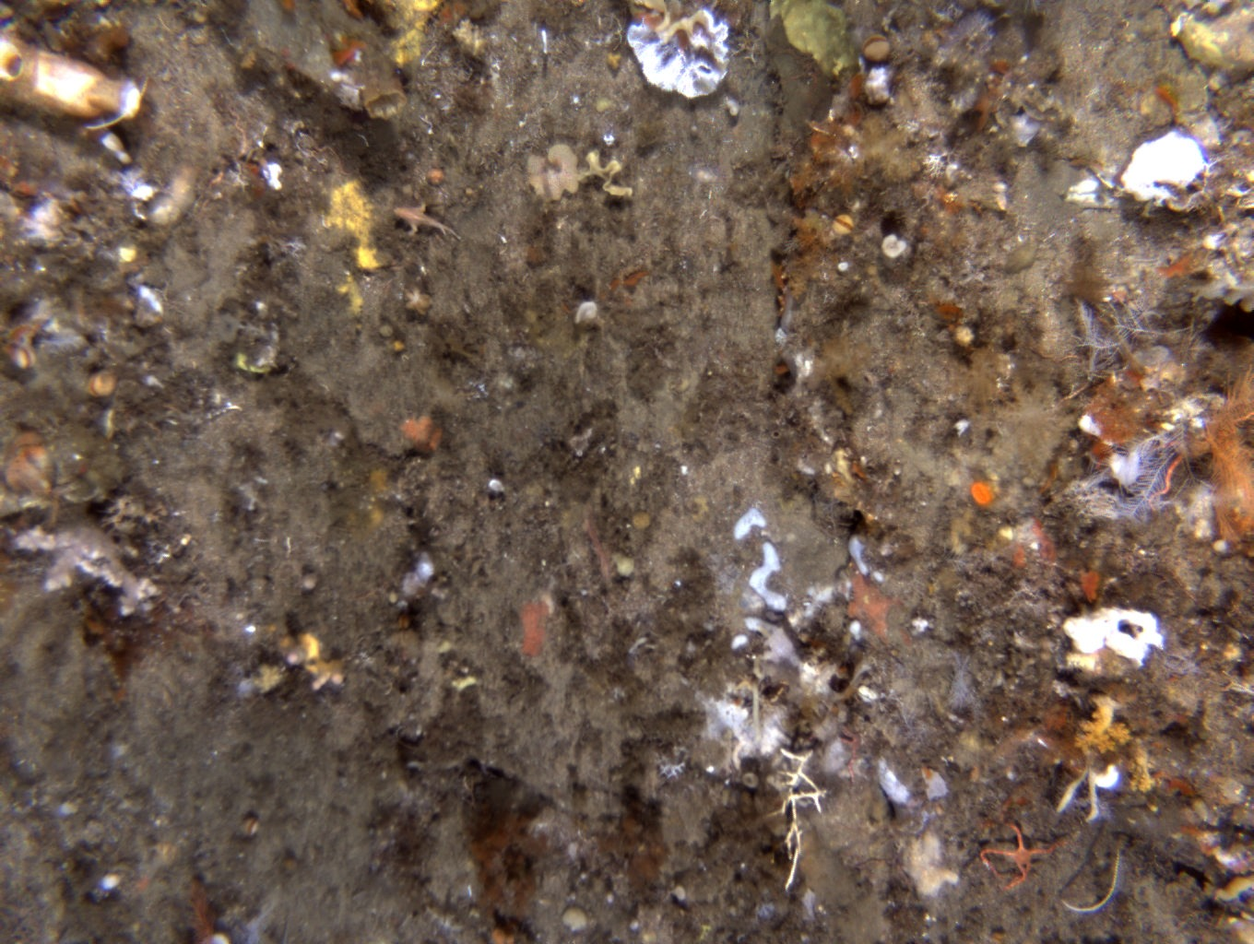Brachionichthyidae: (392, 202, 466, 244)
